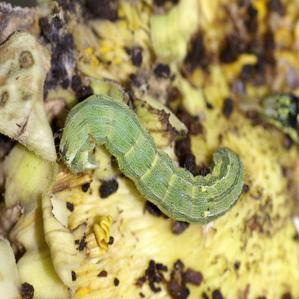Cotton bollworm: (58, 77, 254, 229)
